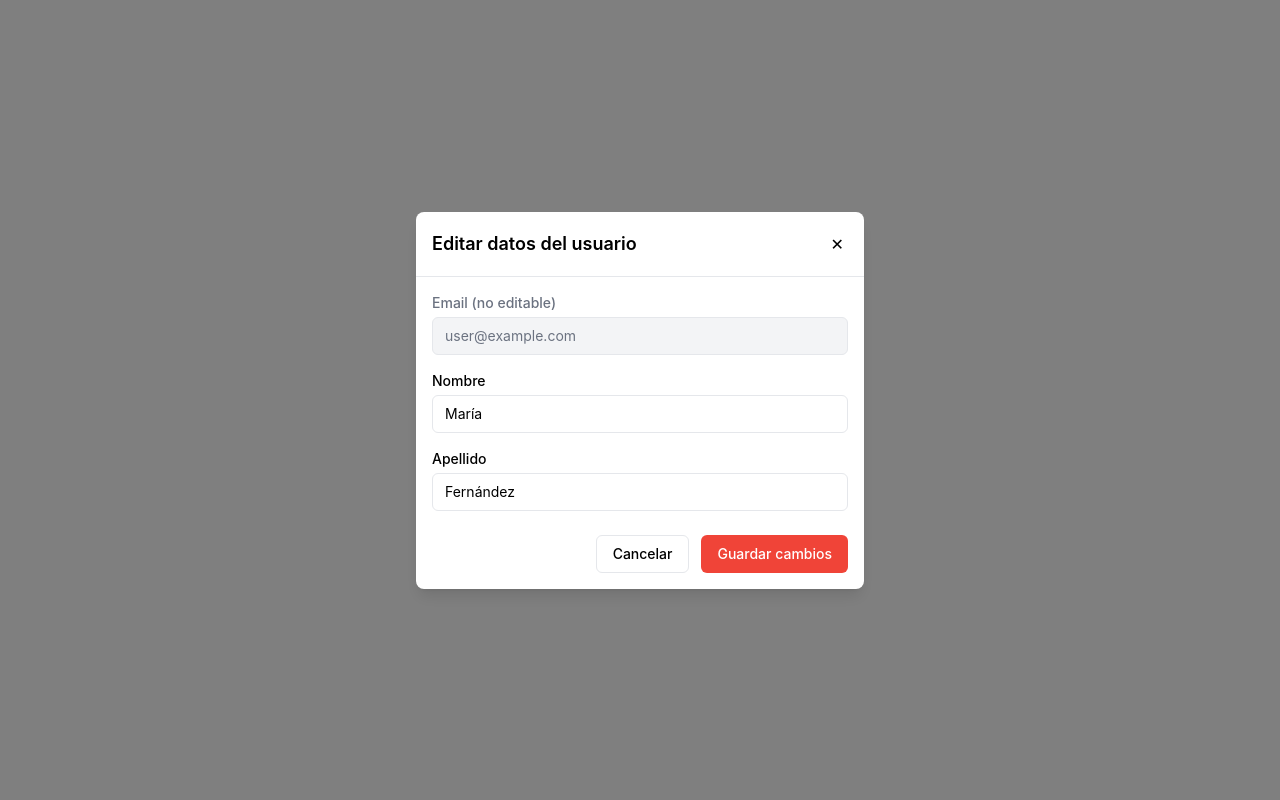
Test: EditUserModal › shows Guardando... when mutation is pending
The image size is (1280, 800).
Step 1. Click the button "Guardar cambios" → (775, 554), box [702,534,848,572]
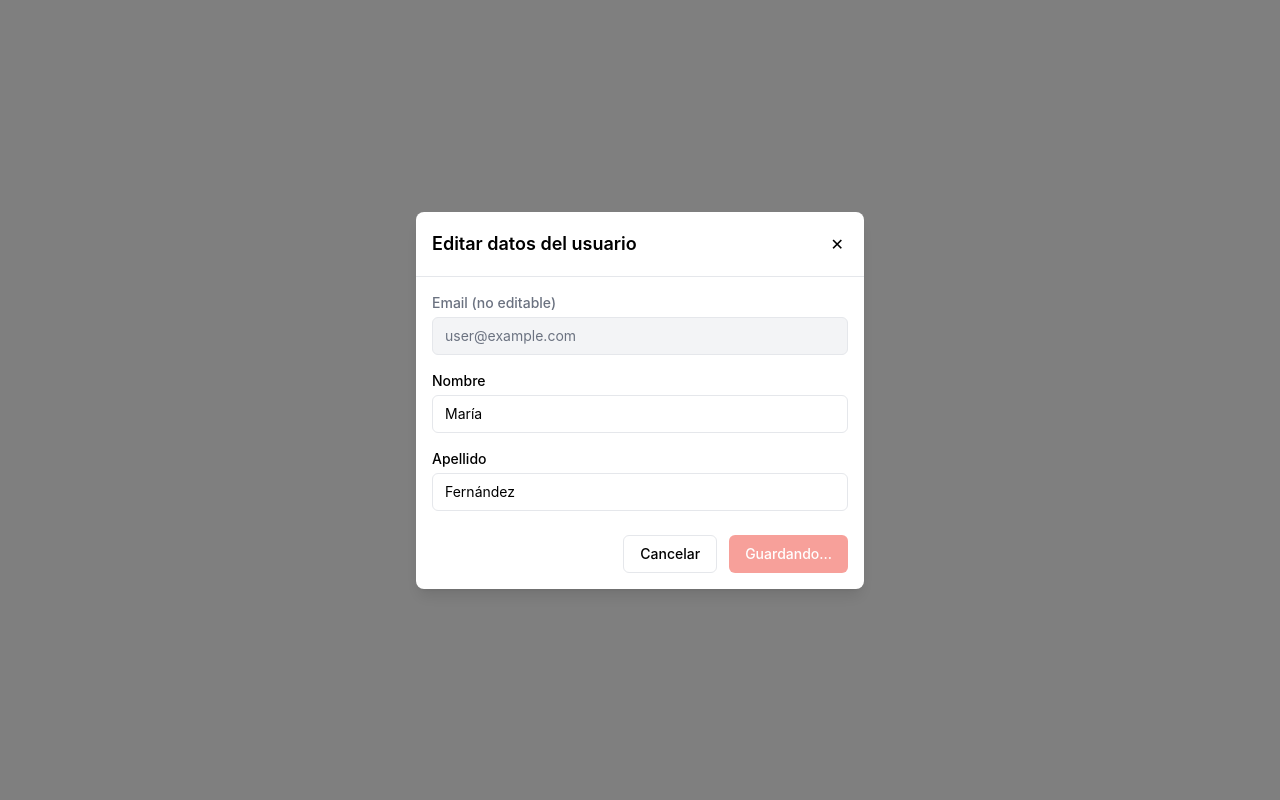
Expected: the button "Guardando..." is disabled, [729,534,848,572]
